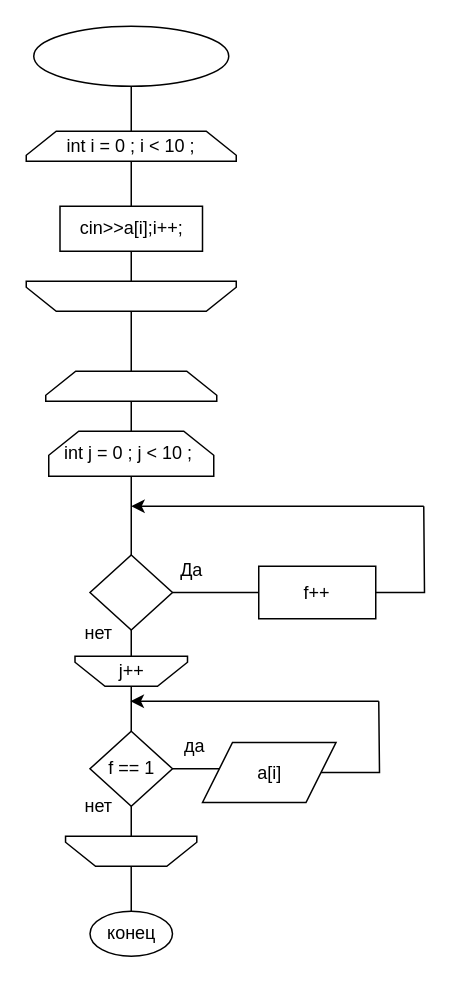
The diagram is 462 pixels wide and 983 high, and some of its shapes have lost their labels. Each missing label, with the centre of its shape:
a[i] == a[j]: point (130, 592)
i++: point (130, 850)
int i = 0 ; i < 10;: point (130, 385)
Начало: point (130, 55)
